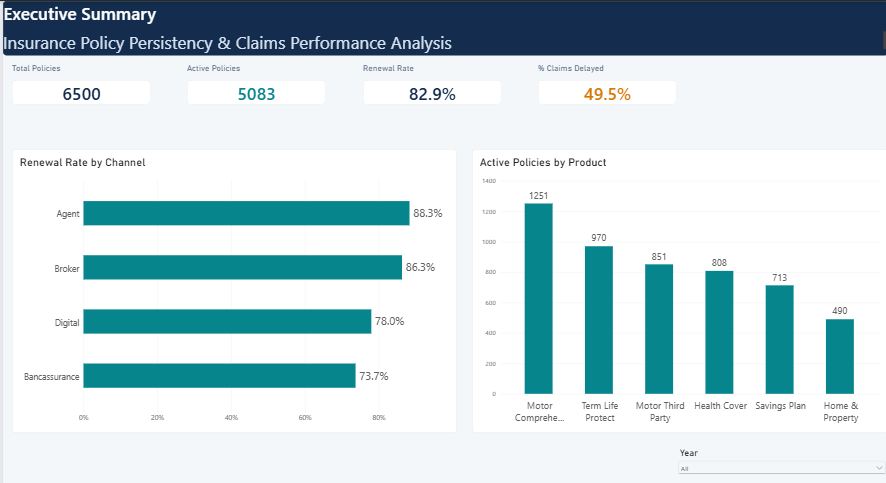

Layout of this report page (visuals, bound fields, positions):
{"tool":"powerbi","page":{"name":"Executive Summary","canvas":[1920,1080],"ordinal":0},"visuals":[{"type":"textbox","title":"Executive Summary","box":[0,0,1920,118.4],"z":0},{"type":"cardVisual","title":"Total Policies","fields":{"Data":["DateTable.Total Policies"]},"box":[19.5,134.5,300,90],"z":1000},{"type":"cardVisual","title":"Active Policies","fields":{"Data":["DateTable.Active Policies"]},"box":[399.8,134.5,300,90],"z":2000},{"type":"cardVisual","title":"Renewal Rate","fields":{"Data":["DateTable.Renewal Rate"]},"box":[780,134.5,300,90],"z":3000},{"type":"cardVisual","title":"% Claims Delayed","fields":{"Data":["DateTable.% Claims Delayed"]},"box":[1160.2,134.5,300,90],"z":4000},{"type":"clusteredBarChart","title":"Renewal Rate by Channel","fields":{"Category":["policies.channel"],"Y":["DateTable.Renewal Rate"]},"box":[19.5,321,965.1,615.9],"z":5000},{"type":"clusteredColumnChart","title":"Active Policies by Product","fields":{"Category":["products.product_name"],"Y":["DateTable.Active Policies"]},"box":[1017.1,321,902.2,615.9],"z":6000},{"type":"slicer","title":"Year","fields":{"Values":["DateTable.Year"]},"box":[1459.5,967.2,459.8,84.6],"z":7000}]}

Visuals, with their boxes on the page's 1920x1080 design canvas (x1, y1, x2, y2). These are canvas units, not pixel positions in the 886x483 screenshot, which may show the page scaled, cropped or inside an application window:
"Executive Summary" textbox: (0, 0, 1920, 118)
"Total Policies" cardVisual: (20, 134, 320, 224)
"Active Policies" cardVisual: (400, 134, 700, 224)
"Renewal Rate" cardVisual: (780, 134, 1080, 224)
"% Claims Delayed" cardVisual: (1160, 134, 1460, 224)
"Renewal Rate by Channel" clusteredBarChart: (20, 321, 985, 937)
"Active Policies by Product" clusteredColumnChart: (1017, 321, 1919, 937)
"Year" slicer: (1460, 967, 1919, 1052)
